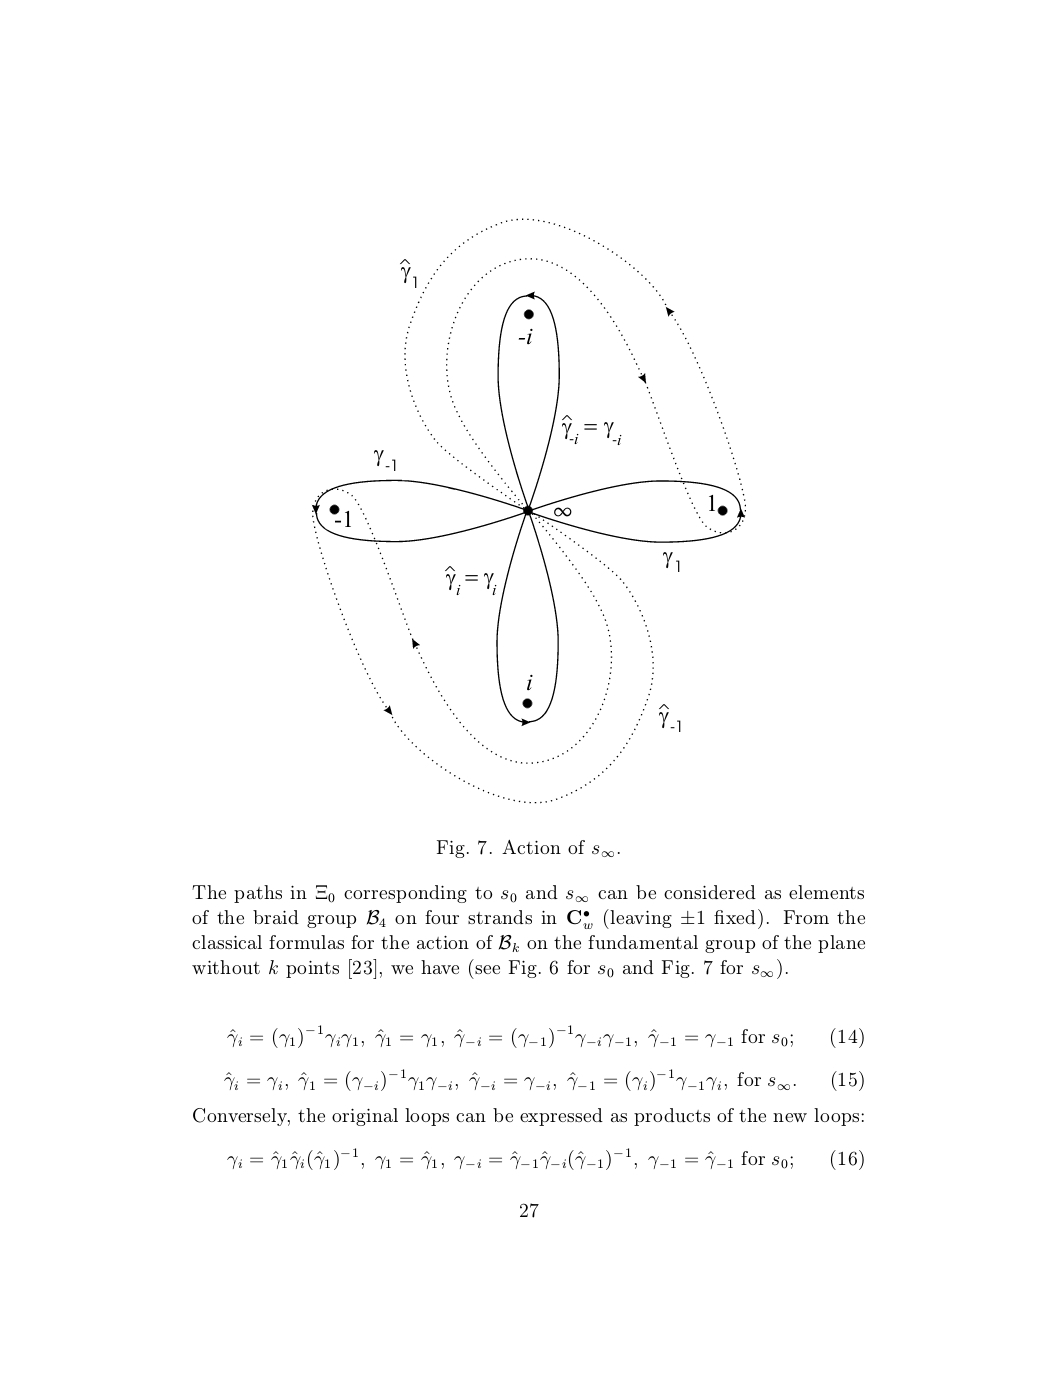figure: (311, 217, 744, 804)
formula: (224, 1068, 863, 1091), (227, 1024, 863, 1048), (227, 1147, 863, 1170)
